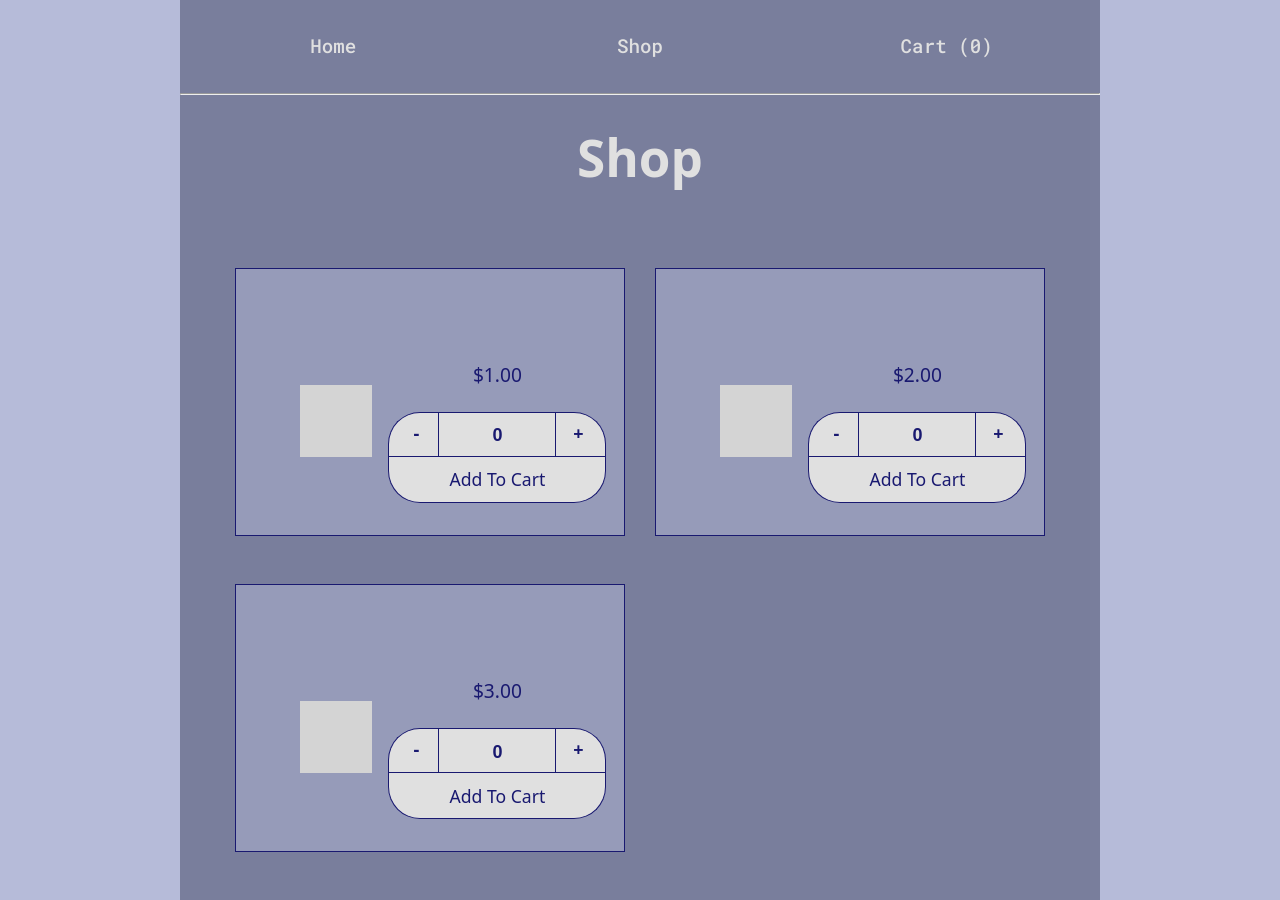
Test: App component › renders cart items in cart page
Click the button "+" below "$1.00". click: coordinates (581, 434)
box: left=556, top=412, right=606, bottom=457
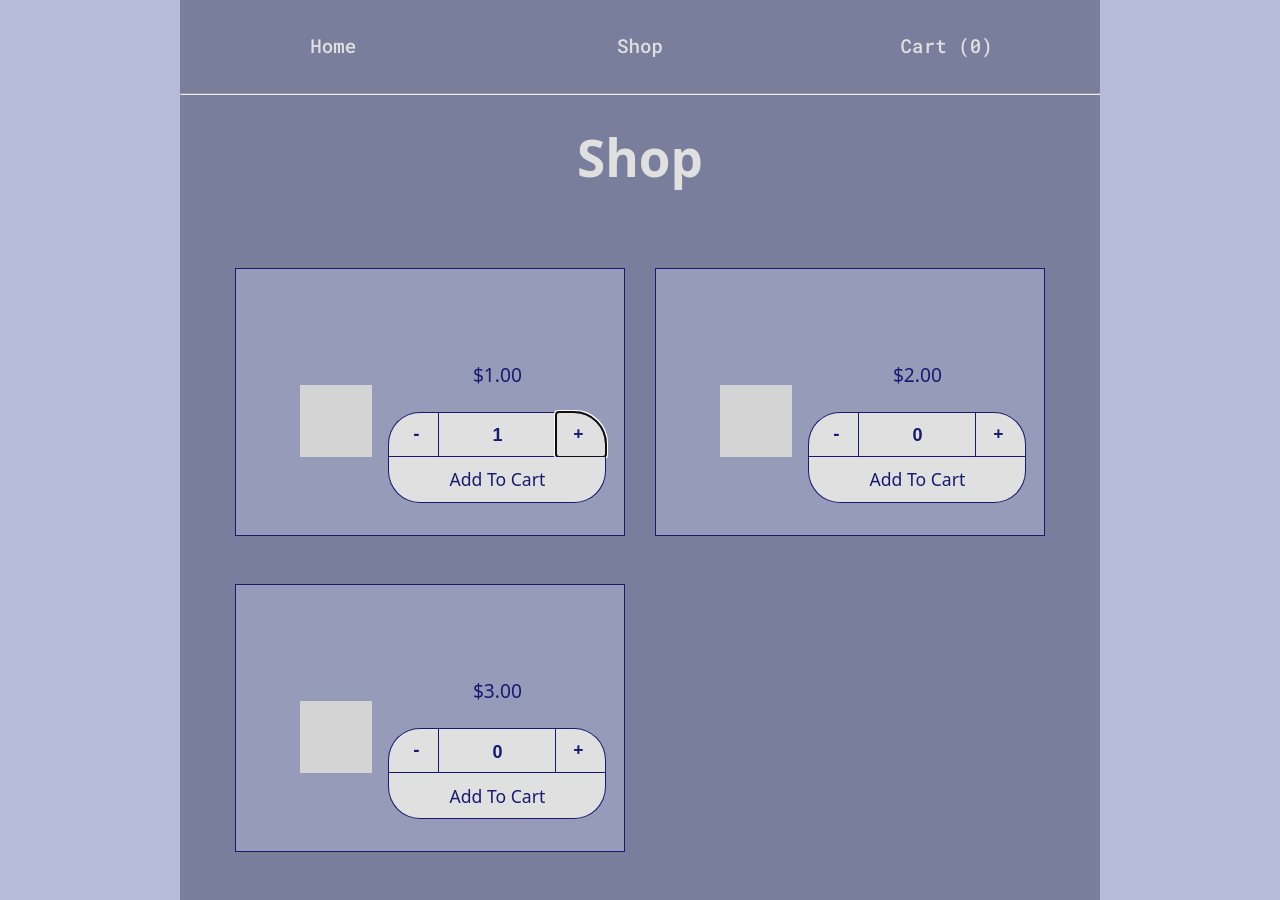
Click the button "Add To Cart" below "$1.00". click: coordinates (497, 480)
box: left=388, top=457, right=606, bottom=503
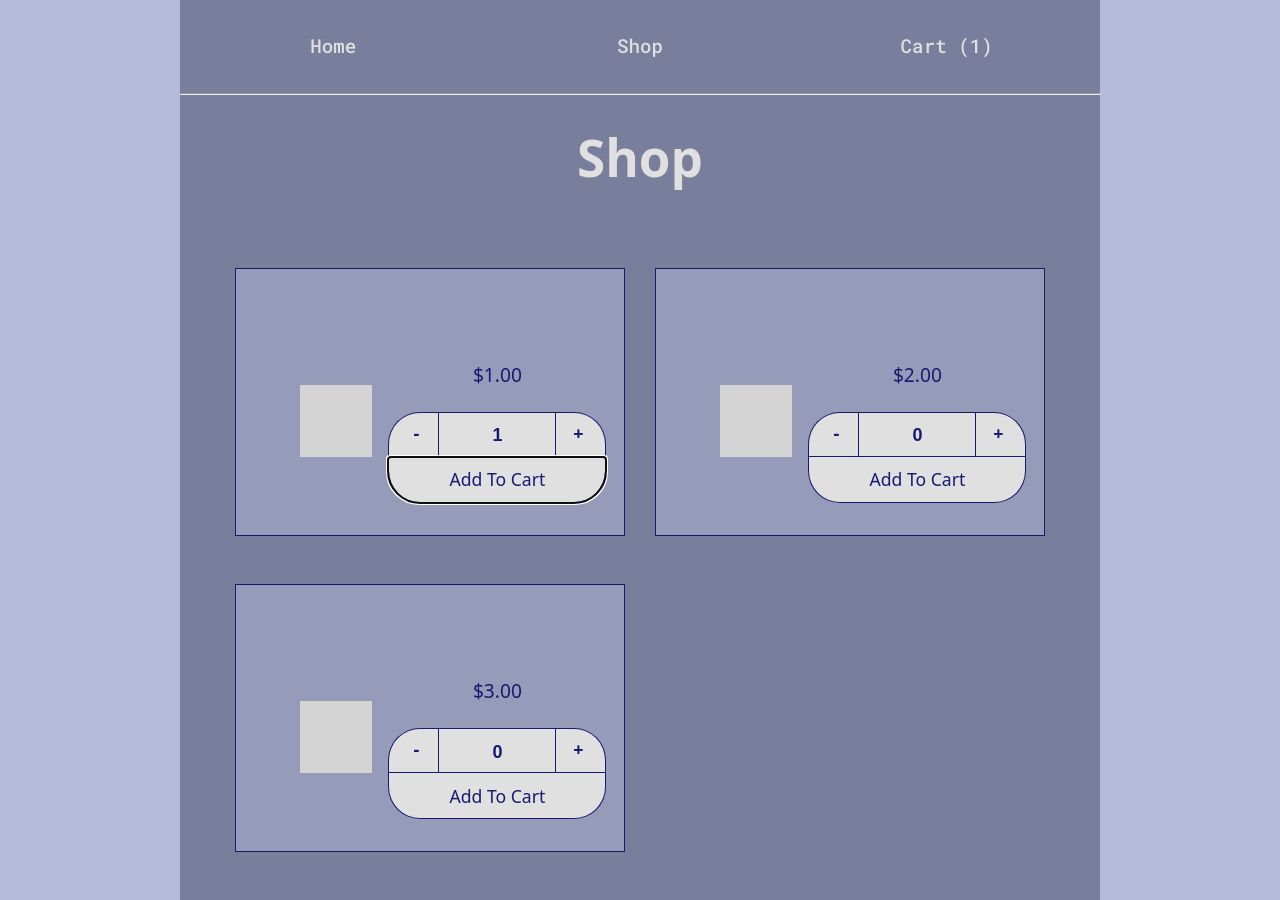
Click the link "Cart (1)". click: coordinates (947, 46)
box: left=901, top=33, right=993, bottom=58
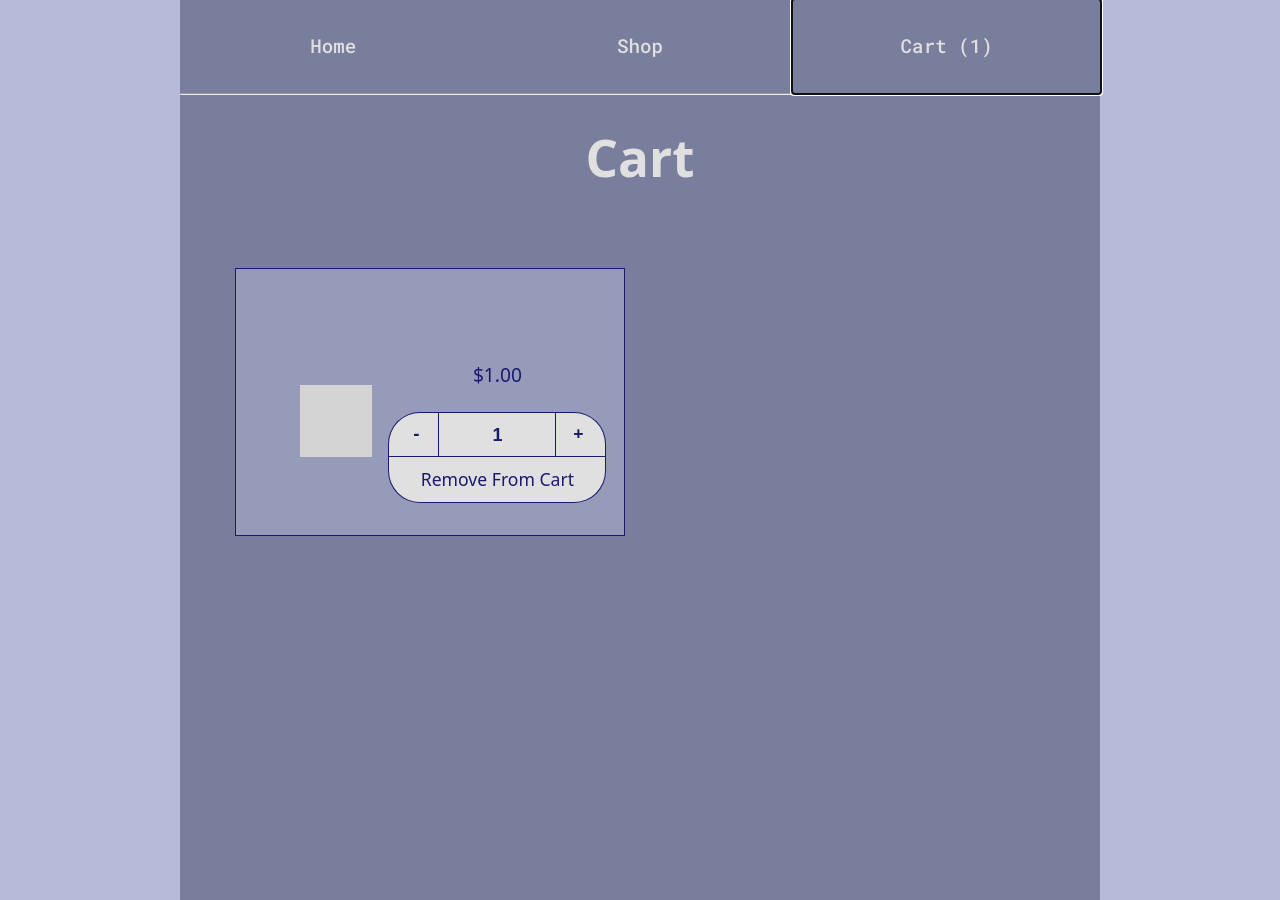
Check: the button "Remove From Cart" is shown, box left=388, top=457, right=606, bottom=503
